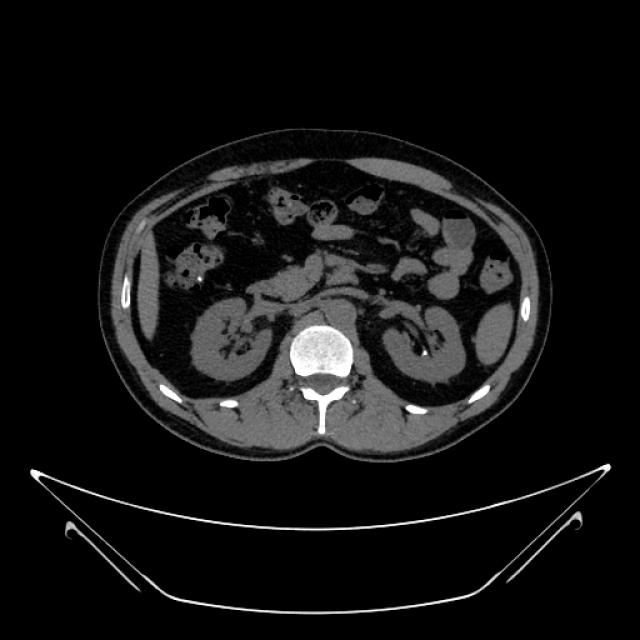kidneystone: (422, 349, 431, 358)
